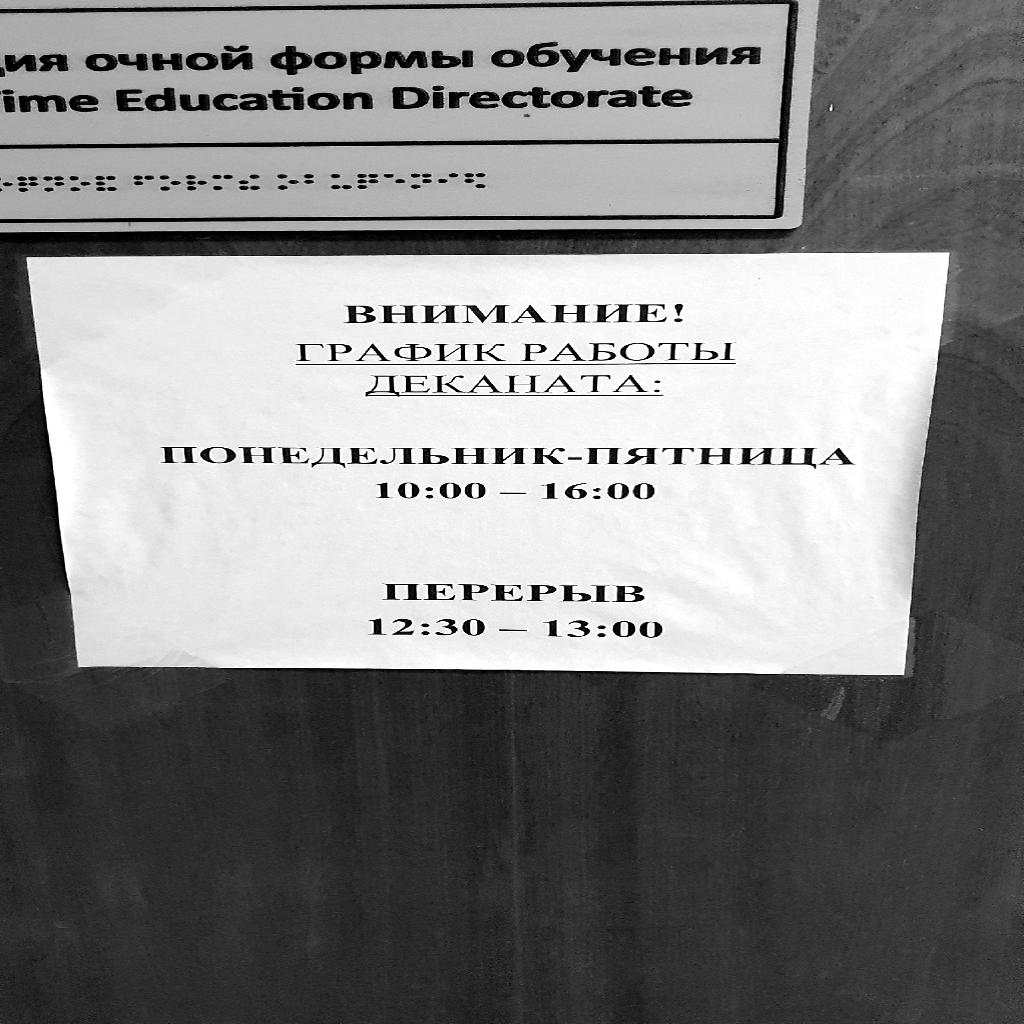_n: (42, 176, 64, 193), (411, 173, 432, 189)
_y: (330, 172, 353, 190)
b: (304, 173, 327, 190)
ch: (357, 174, 379, 190), (18, 176, 39, 192)
e: (384, 173, 406, 189)
f: (134, 175, 155, 191)
i: (438, 173, 459, 189)
iKratkoe: (95, 176, 117, 192)
ii: (237, 174, 262, 190)
m: (213, 175, 233, 191)
o: (159, 174, 181, 191), (278, 173, 300, 190), (69, 175, 90, 192)
r: (186, 175, 209, 192)
ya: (464, 172, 486, 189)
